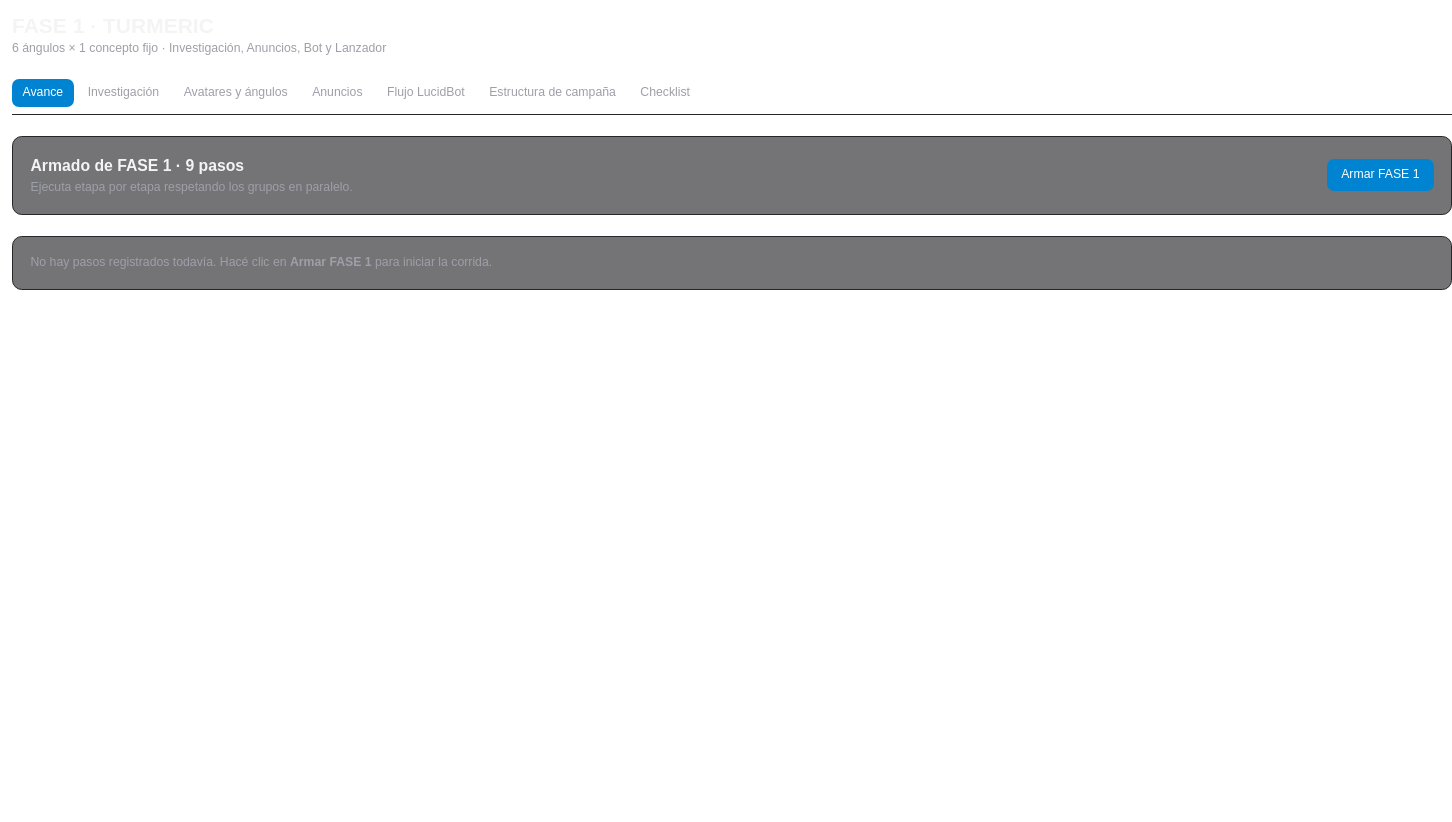
it: la pestaña de avatares y ángulos no muestra TOFU/MOFU/BOFU y muestra la frase exacta de doctrina
Click the button "Avatares y ángulos" at (236, 92), box x1=173 y1=78 x2=298 y2=106
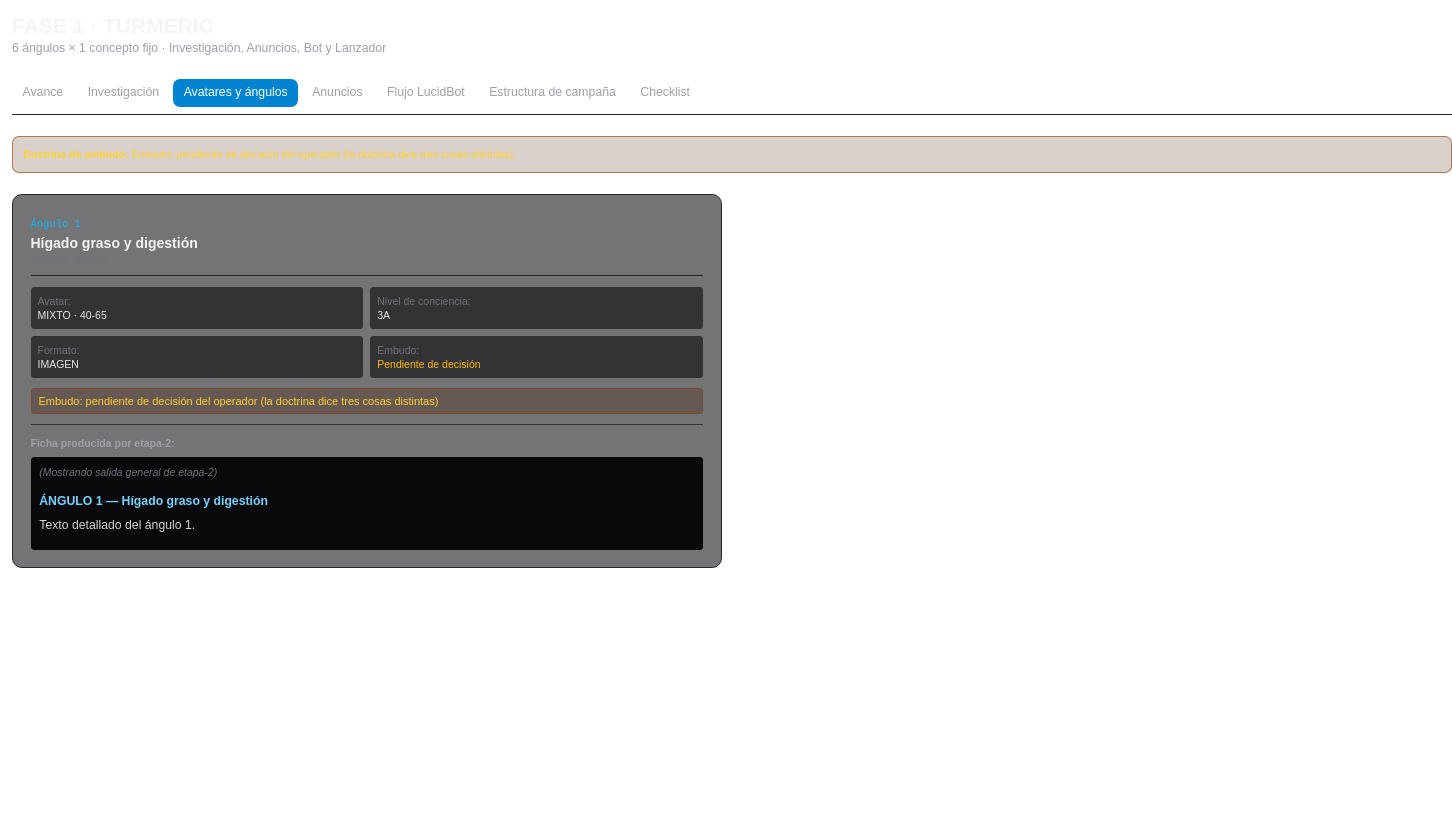
Expected: the heading "Hígado graso y digestión" is shown, x1=30 y1=235 x2=198 y2=251
Expected: the text "Embudo: pendiente de decisión del operador (la doctrina dice tres cosas distintas)" is shown, x1=128 y1=148 x2=516 y2=160
